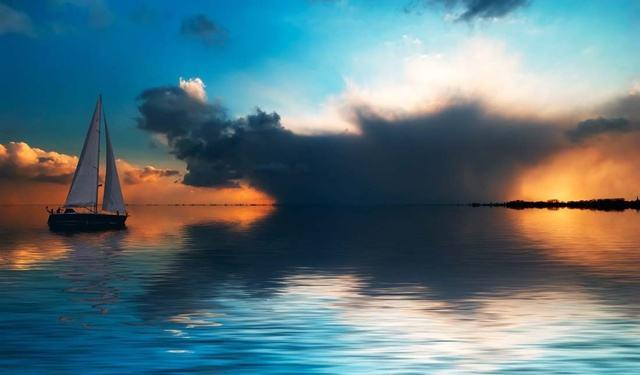fanchuan: (41, 93, 138, 235)
